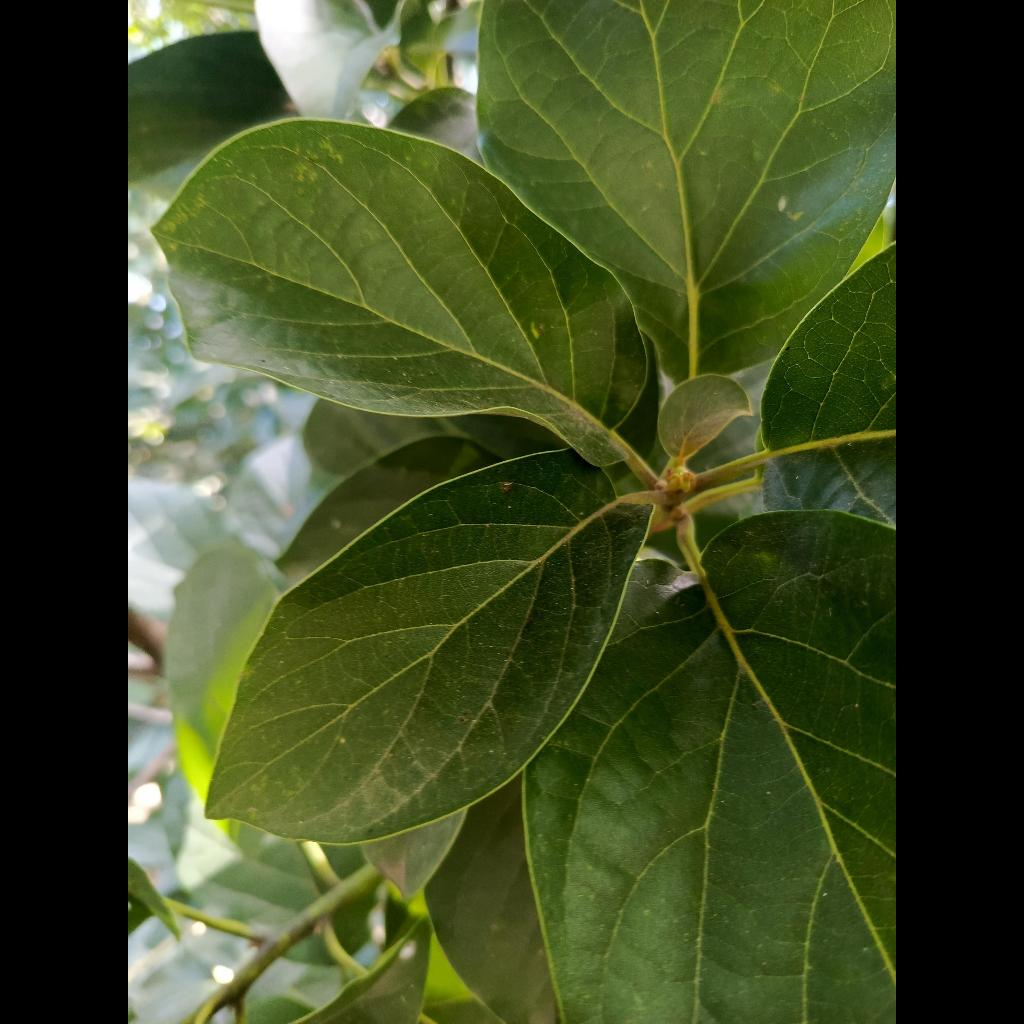Healthy: (207, 450, 649, 843), (156, 120, 645, 465), (479, 0, 896, 379)
